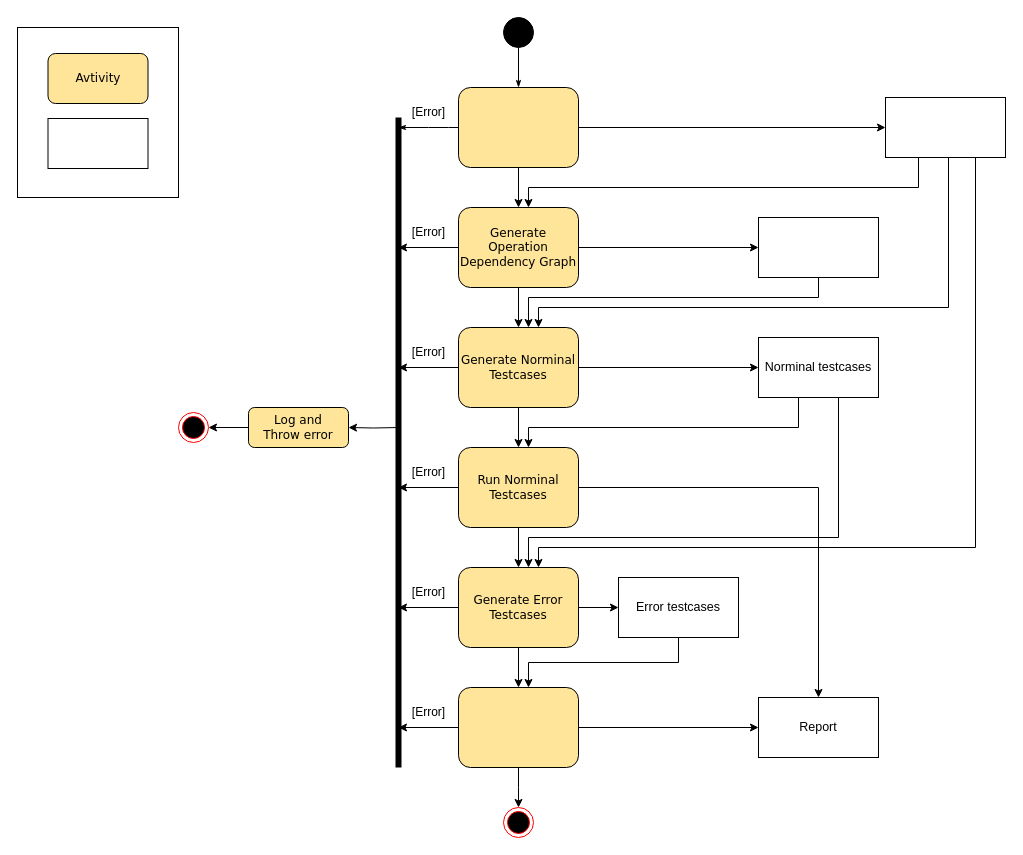
Some shapes in this 1023 by 855 pixel diagram are drawn without their labels. Here are the shapes that lost their labels. From the top down, the centre of each, then its label:
pixel 97 143: Resource
pixel 518 127: Read and validate OpenAPI Specification
pixel 945 127: Operations and their inputs, outputs, constrains,..
pixel 818 247: Operation Dependency Graph
pixel 518 727: Run Error Testcases
